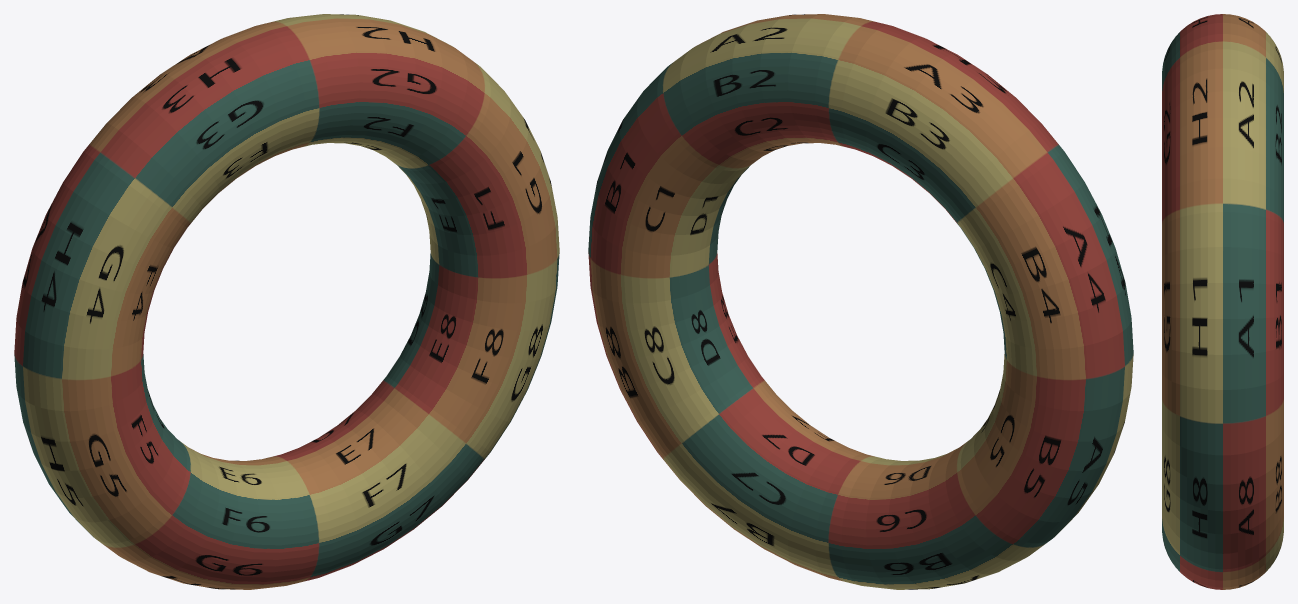
File: texture_torus_R20_r16.glb
3 renders of one model, left to right at view 1: azimuth 30°, elevation 25°; view 2: azimuth 150°, elevation 25°; view 3: azimuth 270°, elevation 25°, orthographic. The views are drawn at different scales.
Visible parts, largest first — view 1: world; view 2: world; view 3: world.
Part boxes in pixels (box(x1,y1,x2,y2)): world: box(14, 14, 559, 589); world: box(588, 14, 1133, 589); world: box(1162, 14, 1283, 589).
Size of the model in its own units: 29.6 by 29.54 by 6.25.
1 material, 1 textured.
